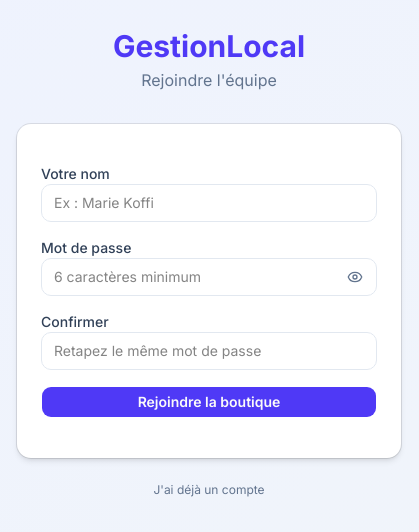
Test: /invitation/[token] › exige un mot de passe d’au moins 6 caractères
Type "Marie" into the field labelled "Votre nom" at point(209, 203), box 41,184 -> 377,222
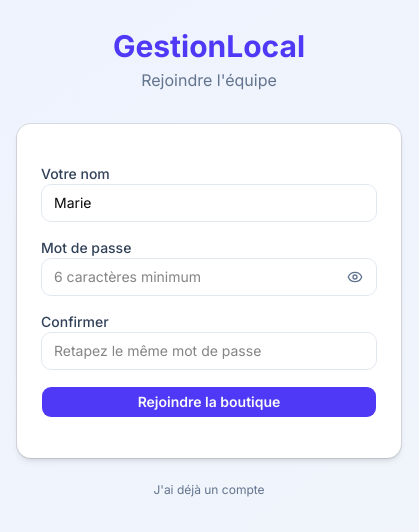
Type "123" into the password field labelled "Mot de passe" at point(209, 277), box 41,258 -> 377,296
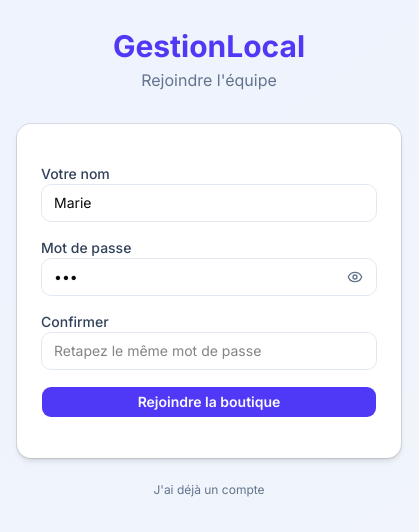
Type "123" into the password field labelled "Confirmer" at point(209, 351), box 41,332 -> 377,370
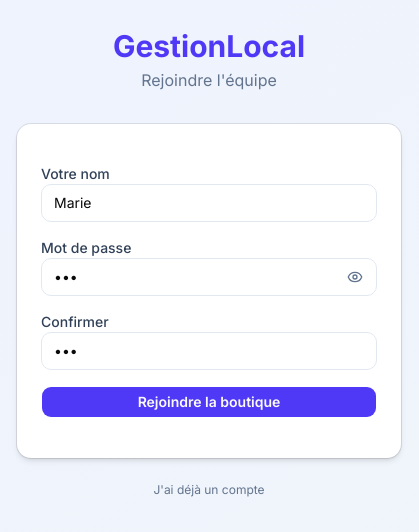
Click the button "Rejoindre la boutique" at point(209, 402), box 41,386 -> 377,418
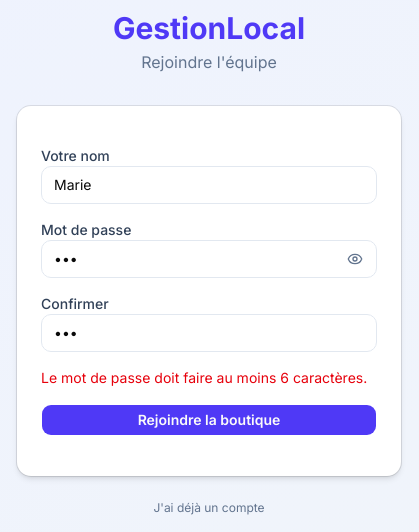
expect the text "Le mot de passe doit faire au moins 6 caractères." is shown: met, box 41,368 -> 377,388
